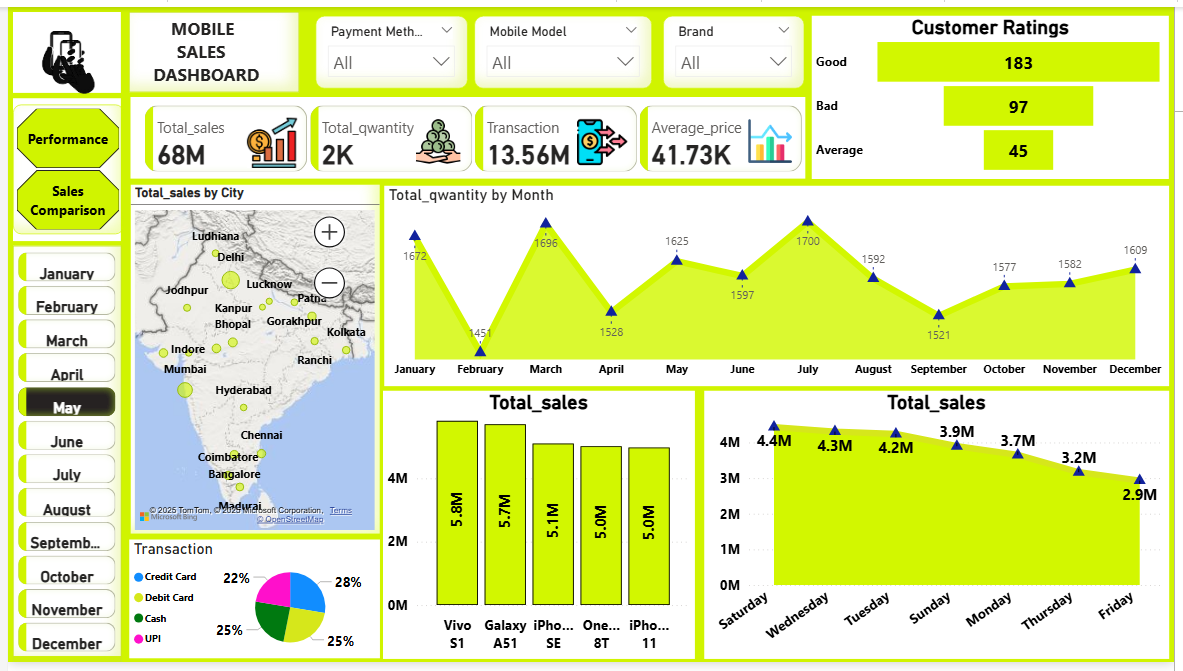

What the dashboard file says about the page in this screenshot:
{"tool":"powerbi","page":{"name":"Main Dash","canvas":[1280,720],"ordinal":0},"visuals":[{"type":"textbox","box":[5,5,118,89.2],"z":0},{"type":"image","box":[0,0,122.1,112.5],"z":1000},{"type":"textbox","box":[5,100,118,156.4],"z":2000},{"type":"image","box":[1.4,0,122.1,112.5],"z":3000},{"type":"textbox","box":[5,262,118,450.1],"z":4000},{"type":"advancedSlicerVisual","fields":{"Values":["customtable.Date.Variation.Date Hierarchy.Month"]},"box":[5.5,262.1,119.4,458.3],"z":5000},{"type":"textbox","box":[134,99.4,741.1,89.6],"z":6000},{"type":"cardVisual","fields":{"Data":["Key_Mesures .Total_sales","Key_Mesures .Total_qwantity","Key_Mesures .Transaction","Key_Mesures .Average_price"]},"box":[144.8,101.8,732.5,84.7],"z":7000},{"type":"slicer","fields":{"Values":["Mobile_Sales_Data.Brand"]},"box":[718.9,10,155.6,80],"z":8000},{"type":"slicer","fields":{"Values":["Mobile_Sales_Data.Mobile Model"]},"box":[511.7,9.8,195.1,79.8],"z":9000},{"type":"image","box":[11.4,10,122.1,112.5],"z":10000},{"type":"slicer","fields":{"Values":["Mobile_Sales_Data.Payment Method"]},"box":[337.4,9.8,166.9,79.8],"z":11000},{"type":"textbox","box":[132.5,6.1,186.5,88.3],"z":12000},{"type":"map","fields":{"Category":["Mobile_Sales_Data.City"],"Size":["Key_Mesures .Total_sales"]},"box":[134.4,195,273.3,383.3],"z":13000},{"type":"lineChart","fields":{"Category":["customtable.Date.Variation.Date Hierarchy.Month"],"Y":["Mobile_Sales_Data.Total_qwantity"]},"box":[412.9,195.7,861.4,220],"z":14000},{"type":"funnel","title":"Customer Ratings ","fields":{"Category":["Mobile_Sales_Data.Rating_Status"],"Y":["CountNonNull(Mobile_Sales_Data.Customer Ratings)"]},"box":[882,10,392,179],"z":15000},{"type":"pieChart","title":"Transaction ","fields":{"Y":["Key_Mesures .Transaction"],"Category":["Mobile_Sales_Data.Payment Method"]},"box":[132.9,584.3,275,130],"z":16000},{"type":"clusteredColumnChart","title":"Total_sales ","fields":{"Category":["Mobile_Sales_Data.Mobile Model"],"Y":["Key_Mesures .Total_sales"]},"box":[411.4,421.4,342,294.3],"z":17000},{"type":"areaChart","title":"Total_sales ","fields":{"Y":["Key_Mesures .Total_sales"],"Category":["customtable.DayName"]},"box":[764.3,421.4,510,294.3],"z":18000},{"type":"pageNavigator","box":[4.9,106.7,121.5,142.3],"z":19000}]}

Visuals, with their boxes in screenshot pixels (x1, y1, x2, y2), scaled from the page's 1280x720 canvas onto the 1183x671 screenshot:
textbox: box=[5, 5, 114, 88]
image: box=[0, 0, 113, 105]
textbox: box=[5, 93, 114, 239]
image: box=[1, 0, 114, 105]
textbox: box=[5, 244, 114, 664]
advancedSlicerVisual - customtable.Date.Variation.Date Hierarchy.Month: box=[5, 244, 115, 670]
textbox: box=[124, 93, 809, 176]
cardVisual - Key_Mesures .Total_sales x Key_Mesures .Total_qwantity: box=[134, 95, 811, 174]
slicer - Mobile_Sales_Data.Brand: box=[664, 9, 808, 84]
slicer - Mobile_Sales_Data.Mobile Model: box=[473, 9, 653, 84]
image: box=[11, 9, 123, 114]
slicer - Mobile_Sales_Data.Payment Method: box=[312, 9, 466, 84]
textbox: box=[122, 6, 295, 88]
map - Mobile_Sales_Data.City x Key_Mesures .Total_sales: box=[124, 182, 377, 539]
lineChart - customtable.Date.Variation.Date Hierarchy.Month x Mobile_Sales_Data.Total_qwantity: box=[382, 182, 1178, 387]
"Customer Ratings " funnel: box=[815, 9, 1177, 176]
"Transaction " pieChart: box=[123, 545, 377, 666]
"Total_sales " clusteredColumnChart: box=[380, 393, 696, 667]
"Total_sales " areaChart: box=[706, 393, 1178, 667]
pageNavigator: box=[5, 99, 117, 232]
